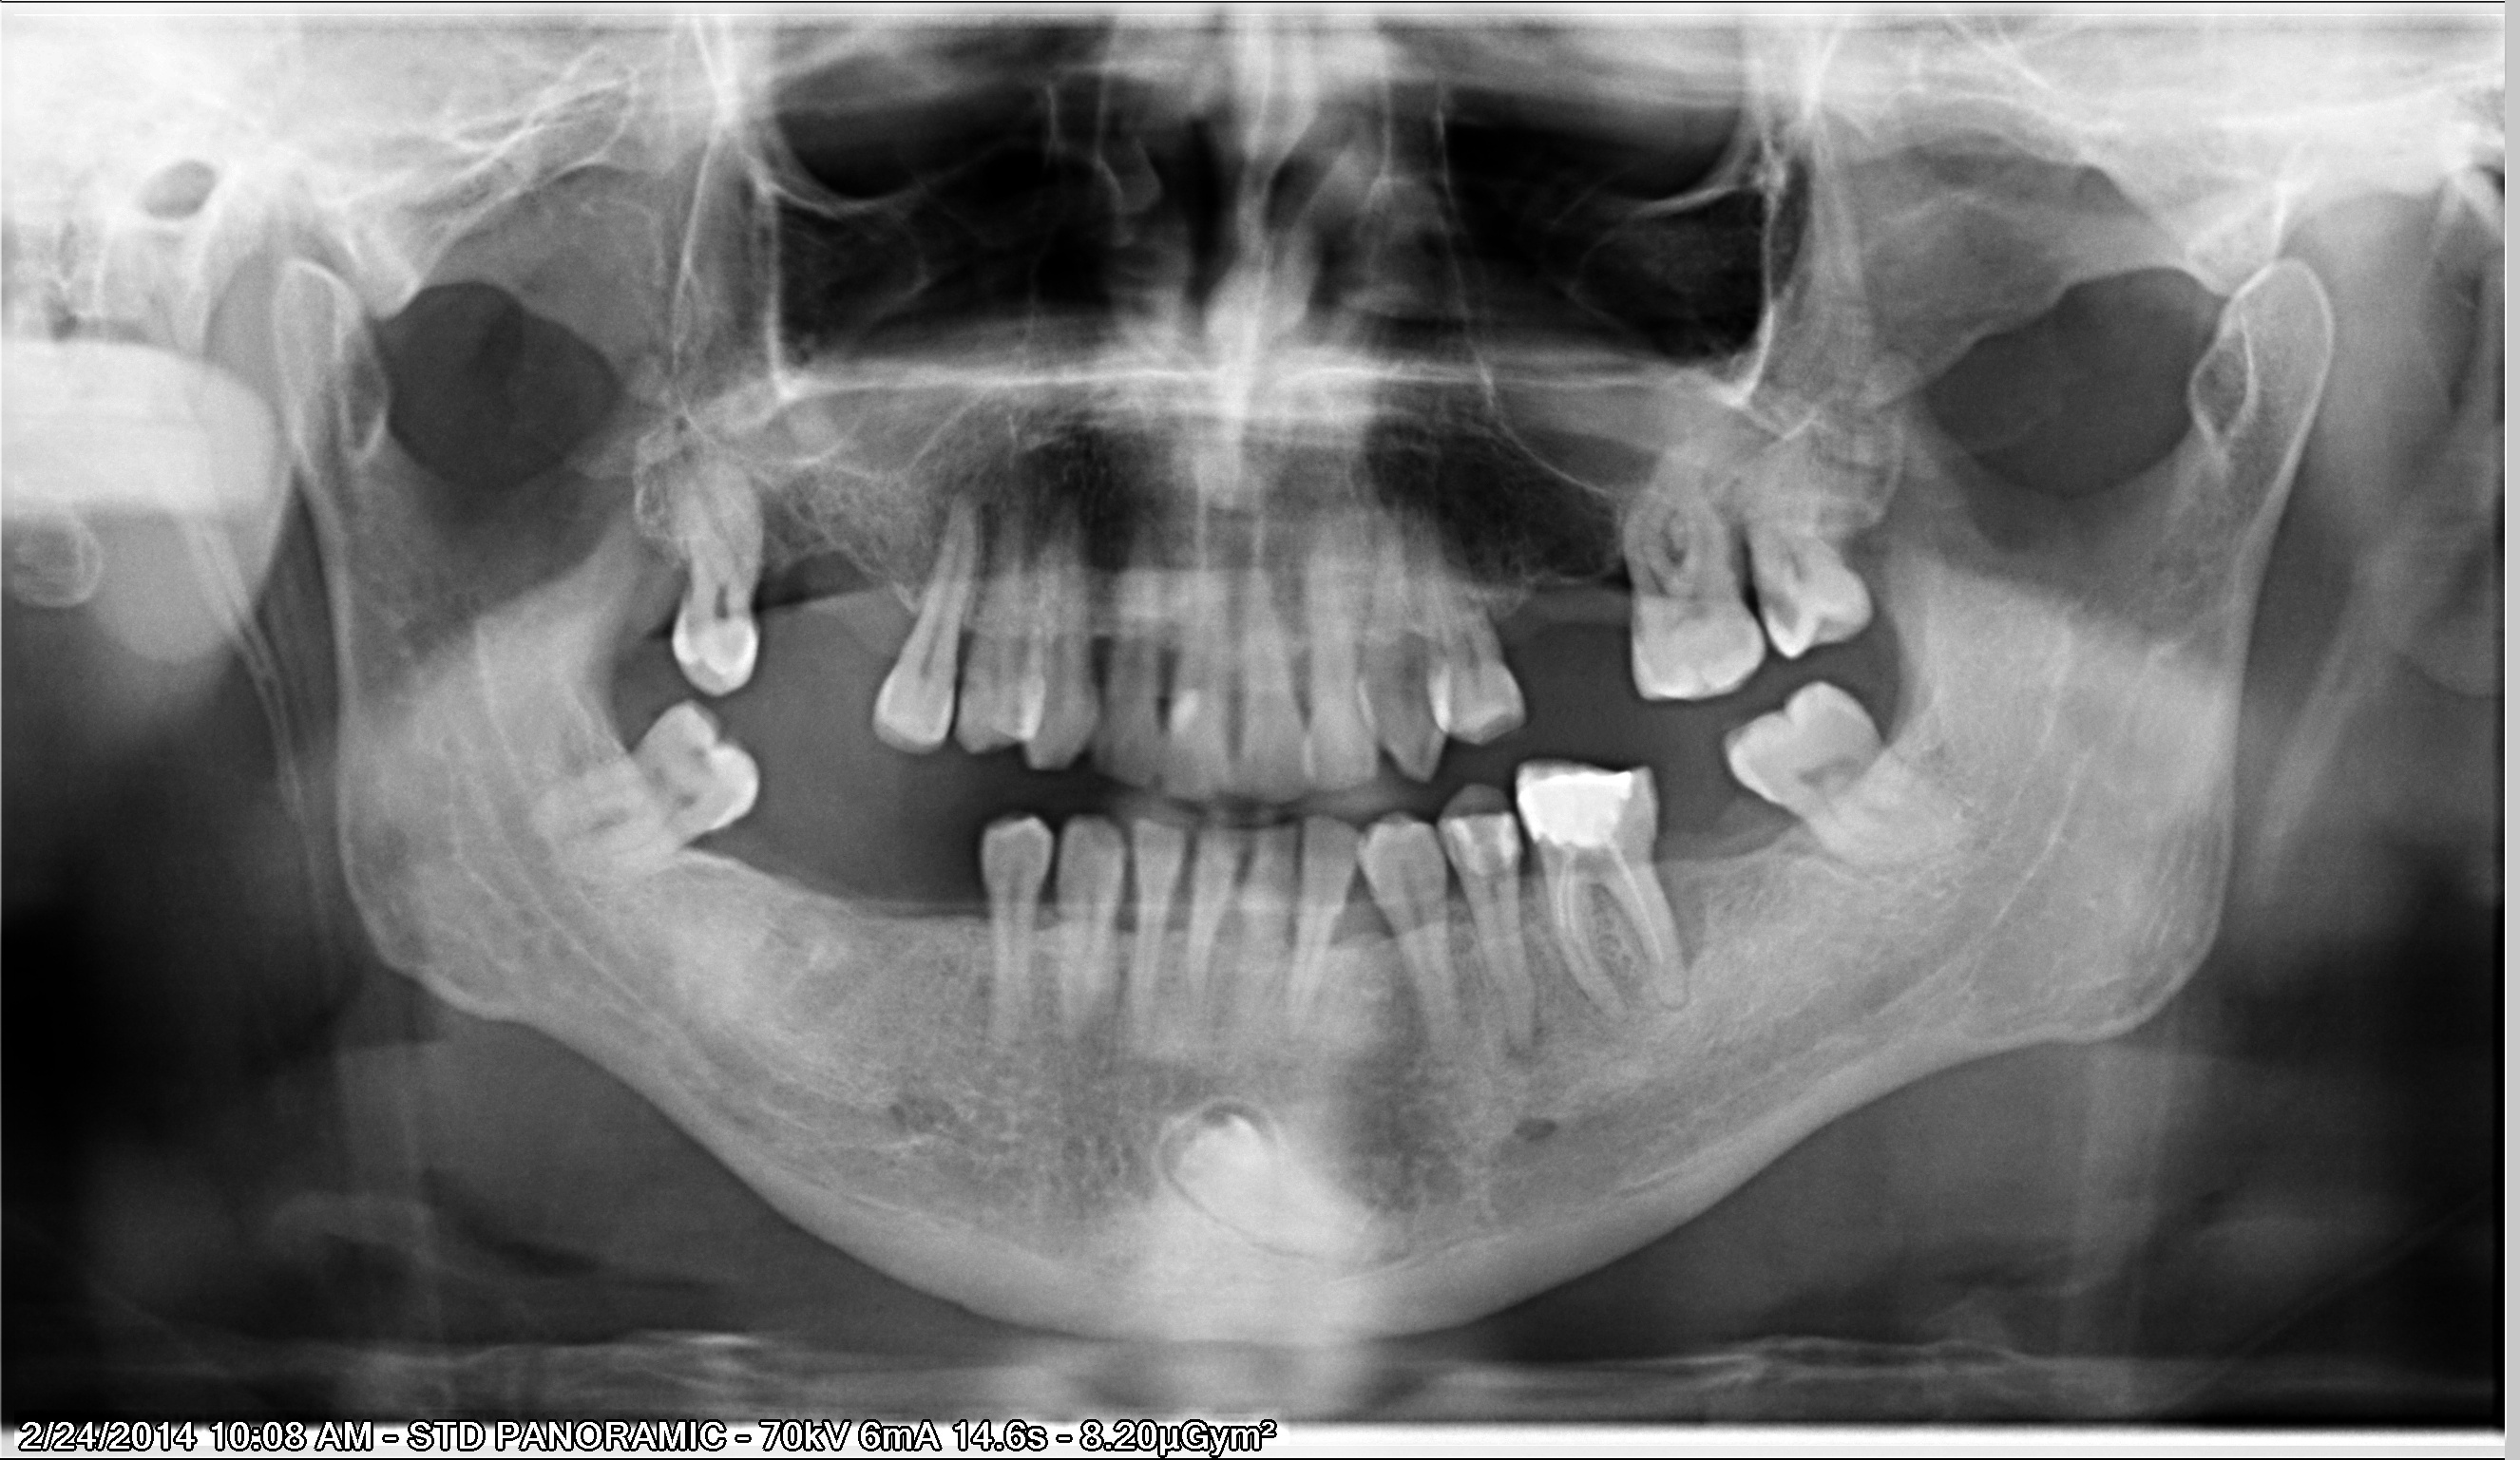API: (1505, 1006, 1550, 1074)
BON: (1653, 860, 1708, 972)
CAR: (685, 607, 751, 662)
END: (1559, 839, 1663, 966)
IMT: (1170, 1111, 1409, 1262)
OBT: (1517, 756, 1634, 846)
